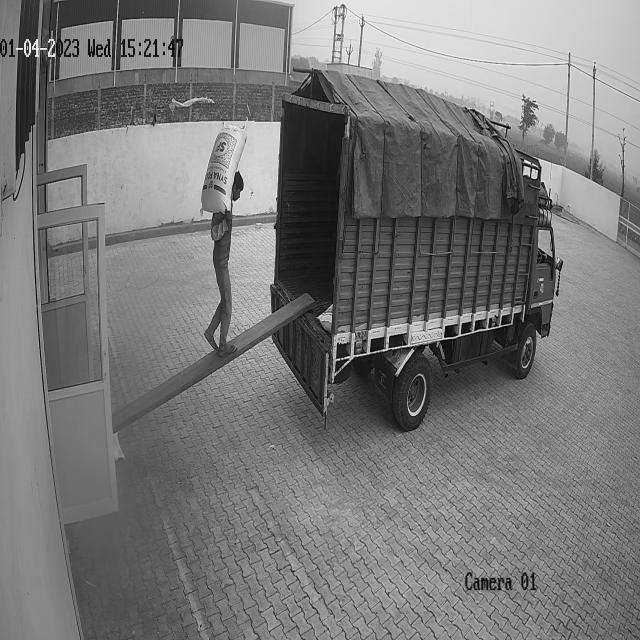sack: (200, 119, 247, 214)
